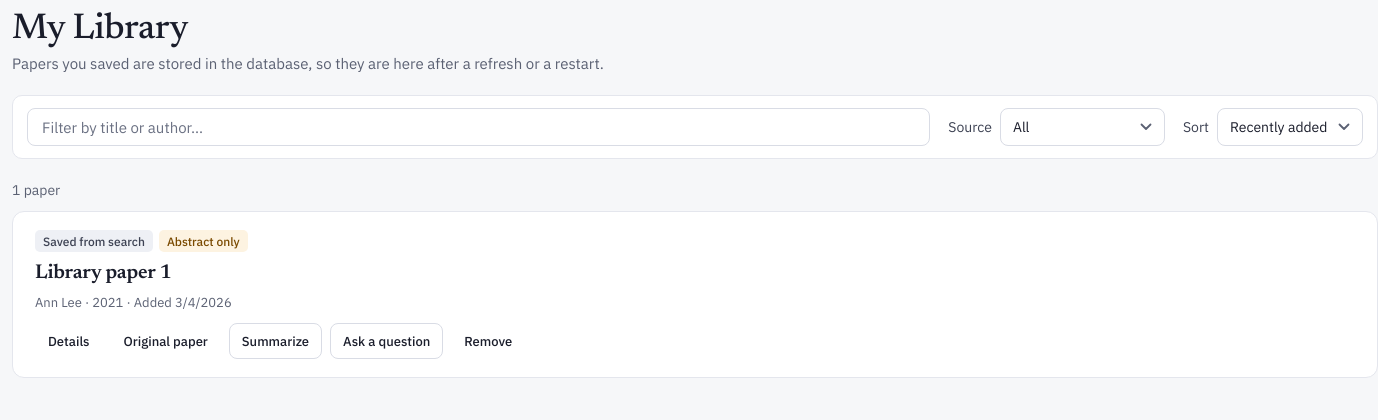
Test: LibraryPage › keeps the paper and shows the error when removing fails
This screenshot has width=1378, height=420.
Expected: the link "Library paper 1" is shown, 35,263 -> 172,283
Click the button "Remove".
click(488, 341)  # box 451,323 -> 525,359
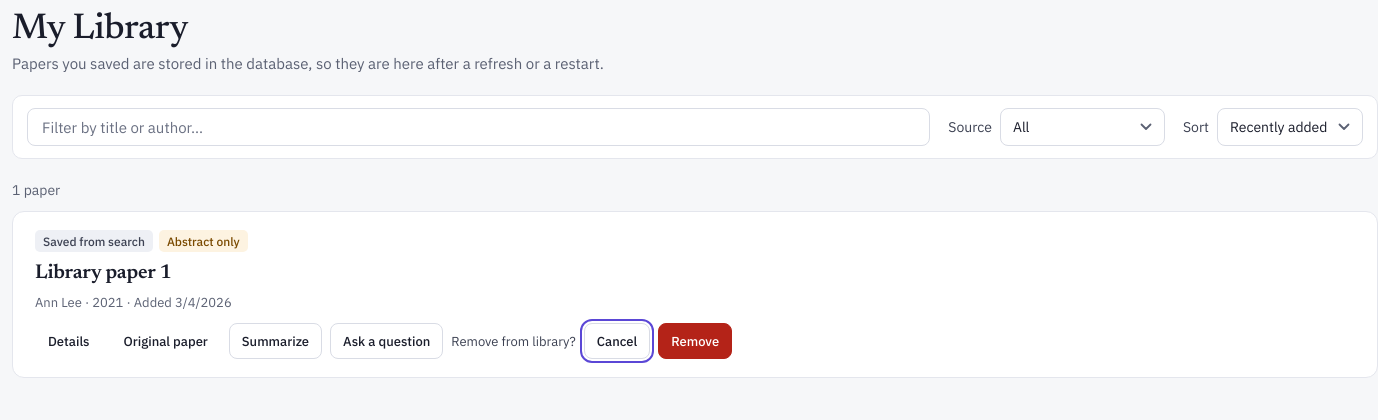
Click the button "Remove".
click(695, 341)  # box 658,323 -> 732,359
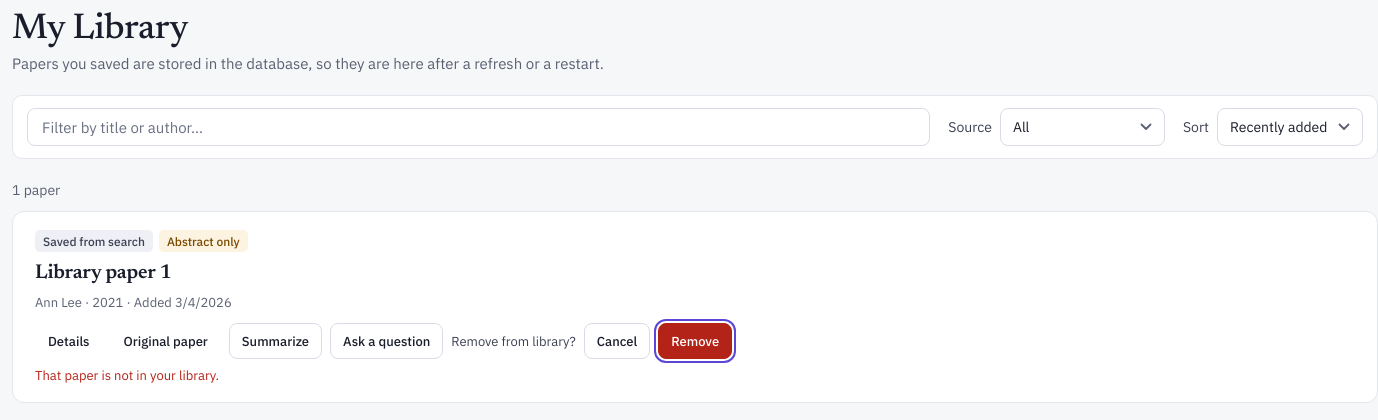
Expected: the link "Library paper 1" is shown, 35,263 -> 172,283
Now the message reads "That paper is not in your library.", box 35,367 -> 219,384
